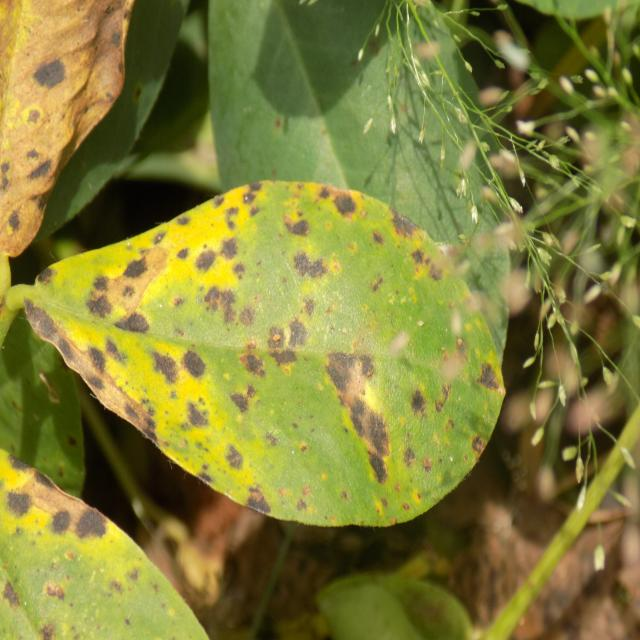Ground nut_tikka leaf spot: (20, 179, 507, 530)
